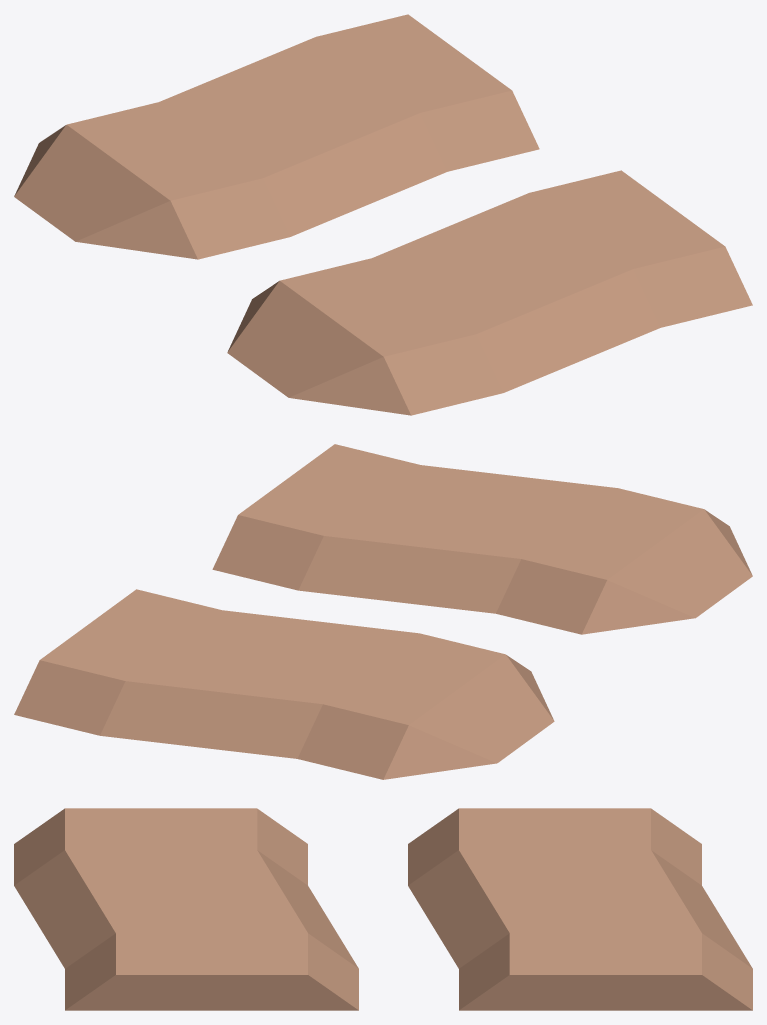
Rendered from crops_dirtDoubleRowEnd.glb.
The picture shows the model from 3 angles, top to bottom: view 1: azimuth 30°, elevation 25°; view 2: azimuth 150°, elevation 25°; view 3: azimuth 270°, elevation 25°; orthographic projection. The views are drawn at different scales.
Visible parts, largest first — view 1: crops_dirtDoubleRowEnd; view 2: crops_dirtDoubleRowEnd; view 3: crops_dirtDoubleRowEnd.
Boxes of the visible parts, bbox=[...] form: crops_dirtDoubleRowEnd: bbox=[14, 14, 752, 415]; crops_dirtDoubleRowEnd: bbox=[14, 444, 752, 779]; crops_dirtDoubleRowEnd: bbox=[14, 808, 752, 1010].
Size of the model in its own units: 0.6 by 0.05 by 0.938.
